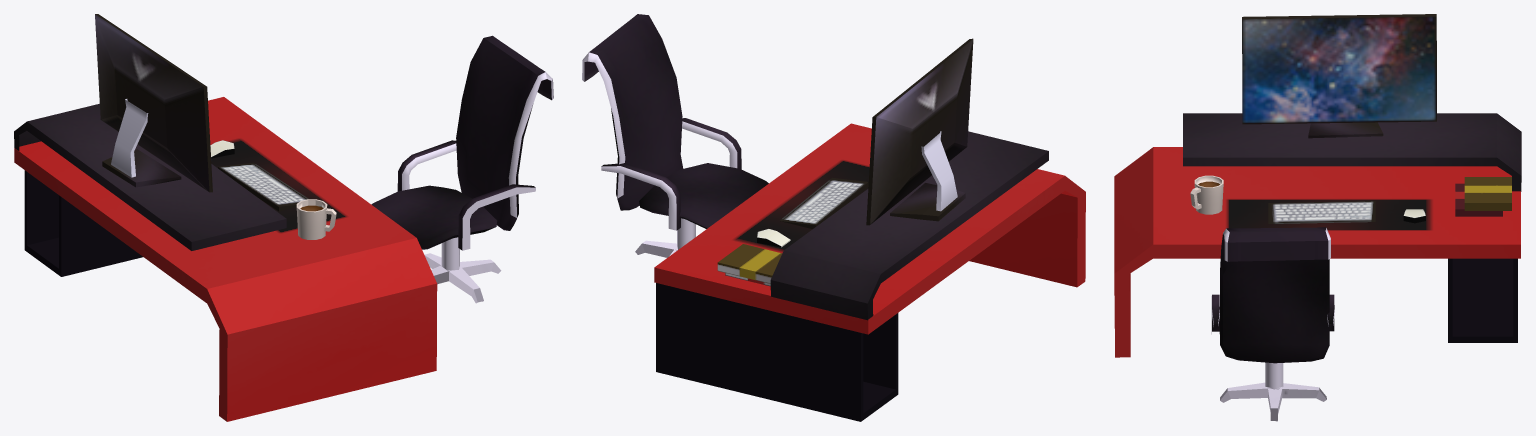
Rendered from Lux_Comp_T8.fbx.
3 views of the same model, side by side, from view 1: azimuth 30°, elevation 25°; view 2: azimuth 150°, elevation 25°; view 3: azimuth 270°, elevation 25° (orthographic). The views are drawn at different scales.
Visible parts, largest first — view 1: Lux_Comp_T8; view 2: Lux_Comp_T8; view 3: Lux_Comp_T8.
Boxes of the visible parts, box(x1,y1,x2,y2) form: Lux_Comp_T8: box(14, 14, 553, 421); Lux_Comp_T8: box(582, 14, 1085, 421); Lux_Comp_T8: box(1114, 14, 1521, 421).
Size of the model in its own units: 11.27 by 7.71 by 10.81.
1 material, 1 textured.
